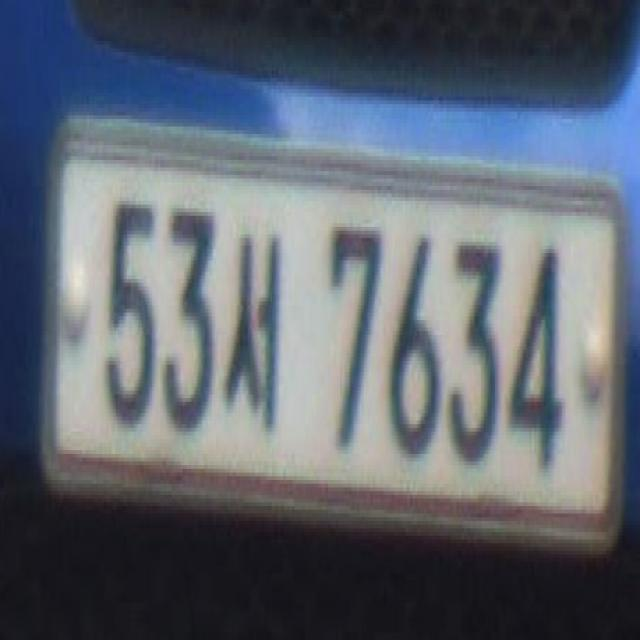3: (439, 220, 516, 517), (156, 190, 223, 454)
4: (506, 216, 572, 532)
5: (102, 164, 162, 432)
6: (383, 246, 452, 476)
7: (318, 216, 389, 472)
license_plate: (34, 93, 620, 580)
seo: (220, 190, 286, 450)
